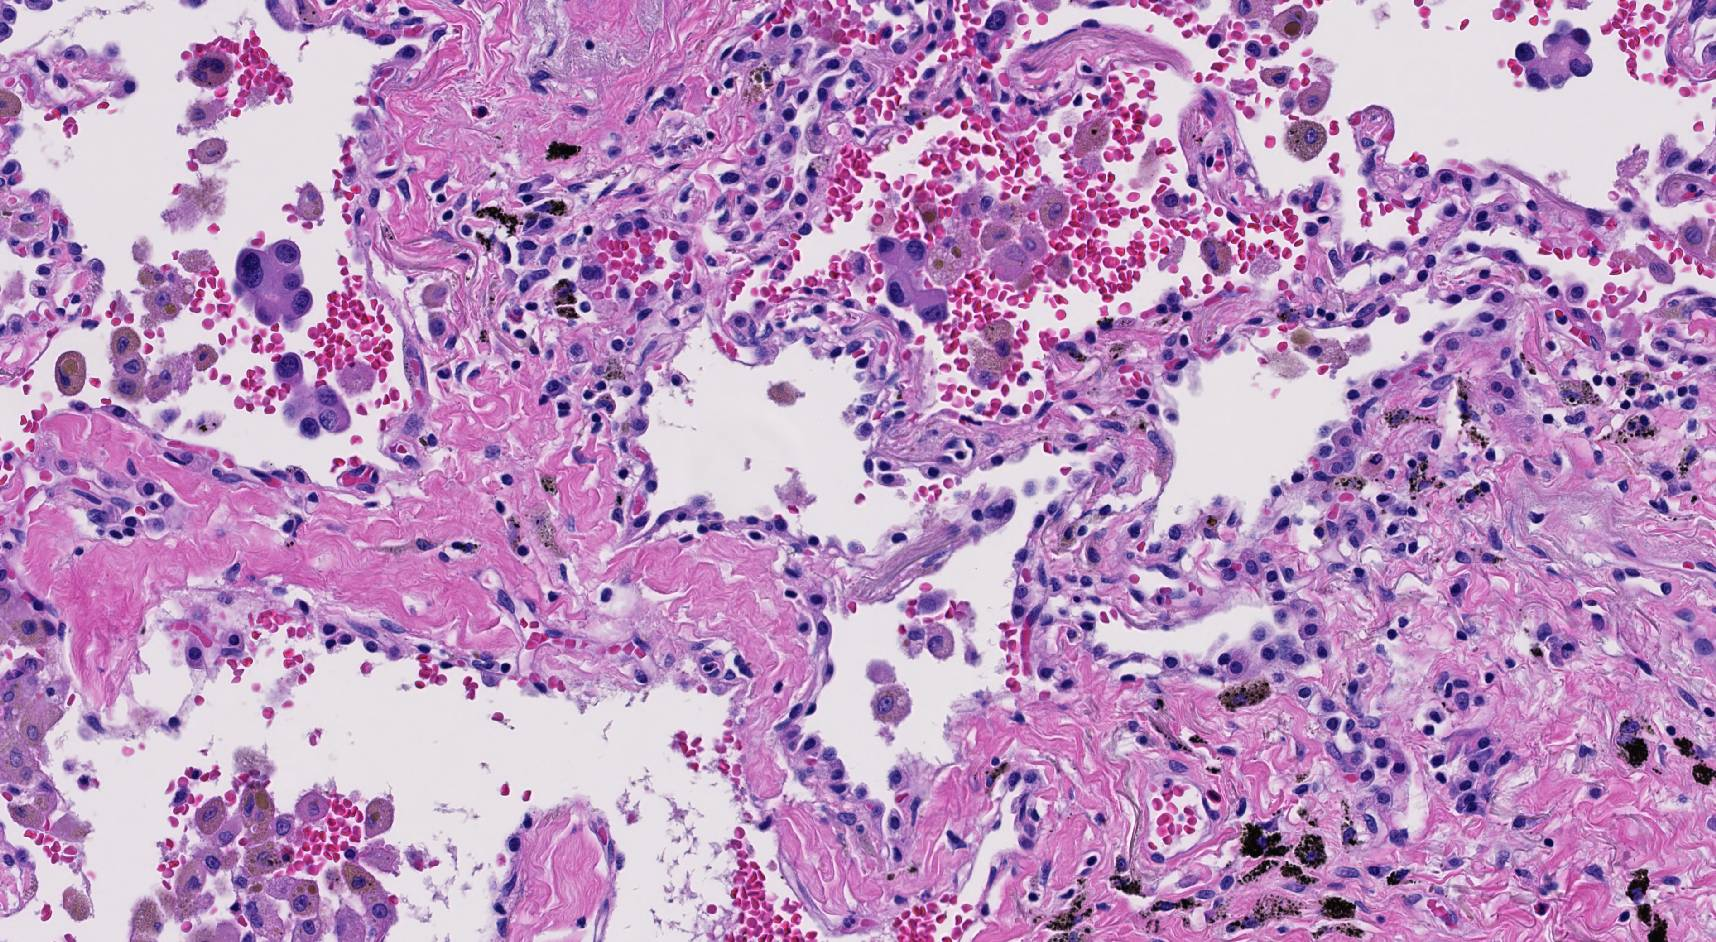stas: (234, 236, 316, 325), (272, 349, 351, 440), (874, 237, 952, 325), (1517, 18, 1595, 90)
